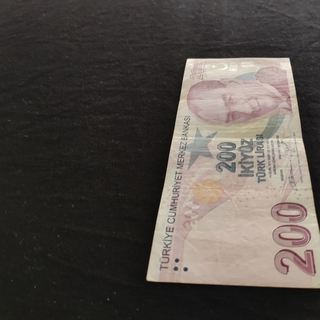200TLFront: (145, 57, 320, 288)
